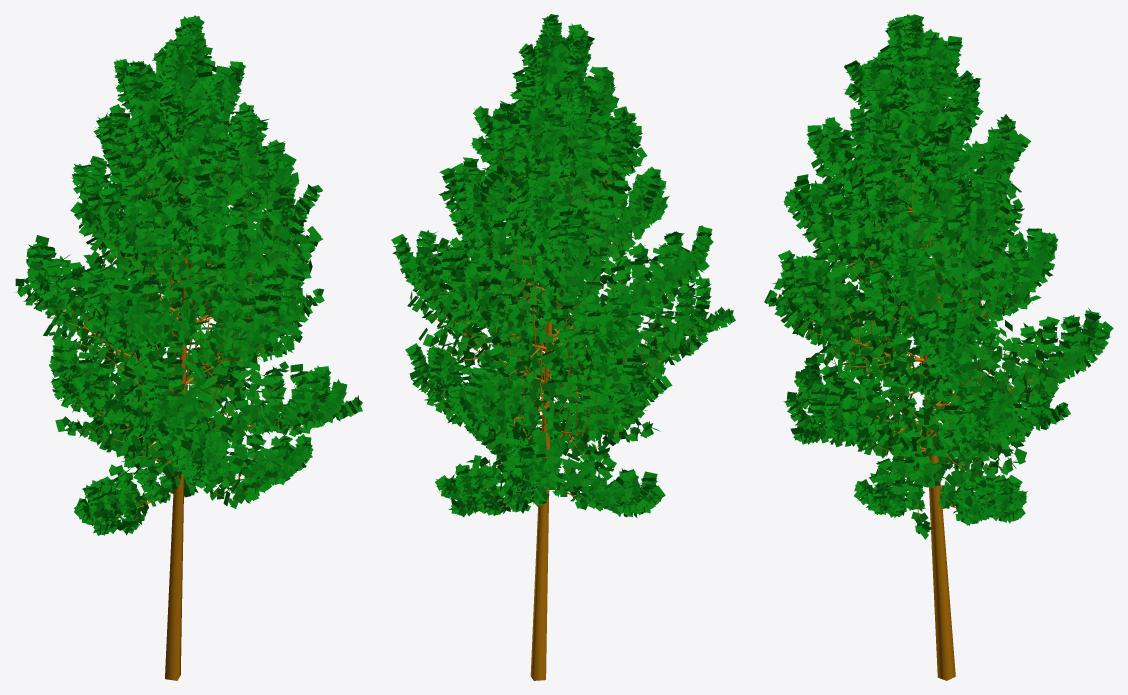
Rendered from lefttree.glb.
The picture shows the model from 3 angles, left to right: view 1: azimuth 30°, elevation 25°; view 2: azimuth 150°, elevation 25°; view 3: azimuth 270°, elevation 25°; orthographic projection. The views are drawn at different scales.
Parts seen in each view (by area): view 1: leaves.001, tree.001; view 2: leaves.001, tree.001; view 3: leaves.001, tree.001.
Part boxes in pixels (left/top/right/bottom): leaves.001: left=15, top=15, right=362, bottom=535; tree.001: left=25, top=81, right=348, bottom=680; leaves.001: left=391, top=14, right=735, bottom=517; tree.001: left=415, top=83, right=721, bottom=680; leaves.001: left=764, top=14, right=1113, bottom=539; tree.001: left=776, top=52, right=1095, bottom=680.
Size of the model in its own units: 7.72 by 17.67 by 8.44.
